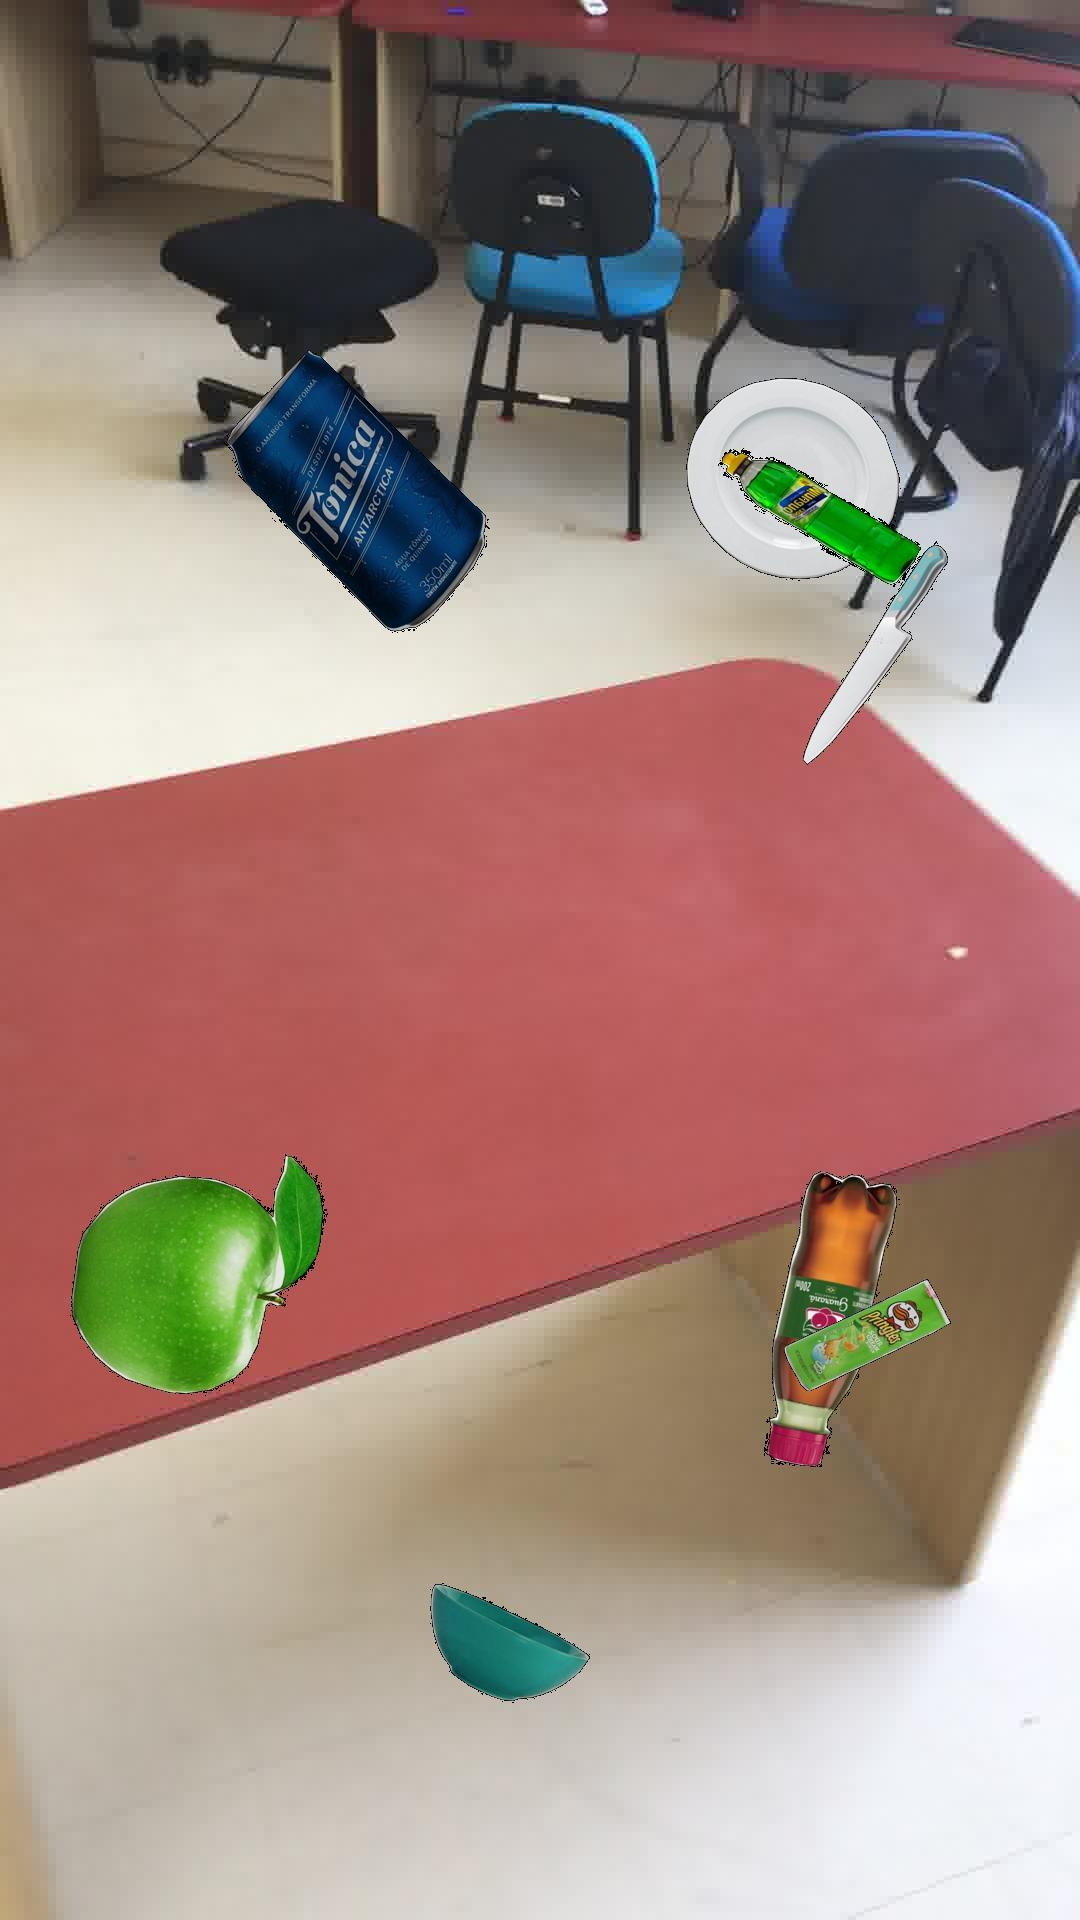bowl: (429, 1582, 588, 1700)
cleaner: (717, 447, 919, 585)
green apple: (70, 1153, 324, 1393)
guarana: (762, 1170, 895, 1465)
knife: (802, 539, 947, 764)
plate: (684, 377, 898, 579)
pringles: (782, 1278, 949, 1390)
tonic: (224, 348, 488, 630)
